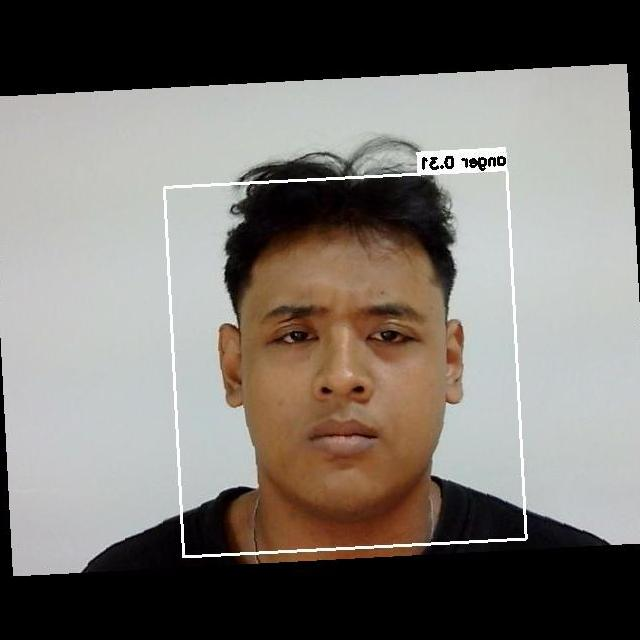Angry: (250, 283, 445, 468)
